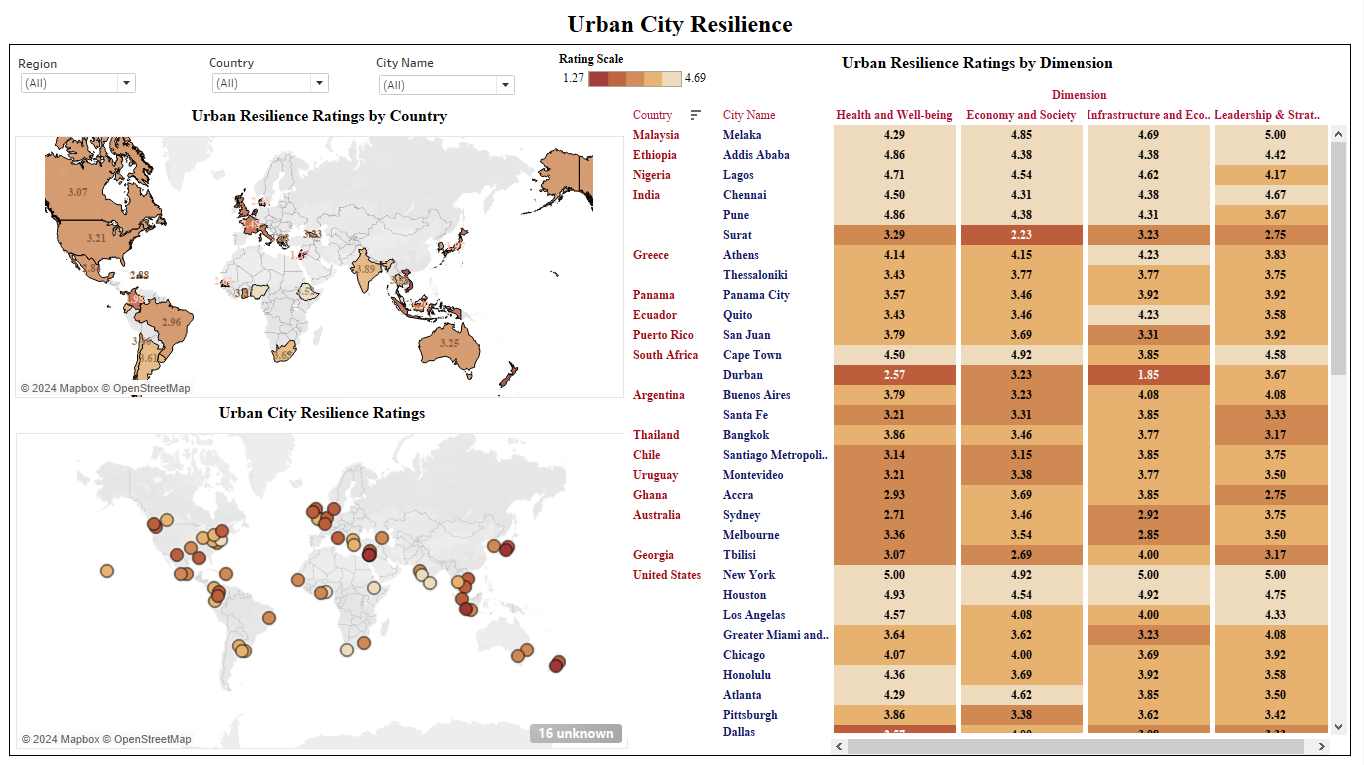

The page's visual inventory and layout, read from the dashboard file:
{"tool":"tableau","page":{"name":"Dashboard 1","canvas":[1366,768],"ordinal":0},"visuals":[{"type":"title","box":[8,8,1350,32]},{"type":"dashboard-object","param":"[com.tableau.addfilters].[0.0.0].[https://extensions.tableauusercontent.com/sand","box":[8,40,1350,720]},{"type":"worksheet","title":"Country Wise Score","mark":"Square","rows":["Country","City Name"],"cols":["Dimension"],"box":[628,50,722,705]},{"type":"legend","title":"Map - Country wise","param":"[federated.10qw0gd0dw16rt1f0r8140kxbrha].[avg:Rating:qk]","box":[562,52,152,50]},{"type":"filter","title":"Map - Country wise","param":"[federated.10qw0gd0dw16rt1f0r8140kxbrha].[none:Country:nk]","box":[212,54,123,41]},{"type":"filter","title":"Map - Country wise","param":"[federated.10qw0gd0dw16rt1f0r8140kxbrha].[none:City Name:nk]","box":[379,54,142,46]},{"type":"filter","title":"Map - Country wise","param":"[federated.10qw0gd0dw16rt1f0r8140kxbrha].[none:Region:nk]","box":[21,55,121,38]},{"type":"worksheet","title":"Map - Country wise","mark":"Multipolygon","box":[18,103,609,295]},{"type":"worksheet","title":"Map - City wise","mark":"Automatic","box":[19,400,612,349]}]}

Visuals, with their boxes in screenshot pixels (x1, y1, x2, y2), scaled from the page's 1366x768 canvas onto the 1364x765 screenshot:
title: x1=8, y1=8, x2=1356, y2=40
dashboard-object: x1=8, y1=40, x2=1356, y2=757
"Country Wise Score" worksheet (Square marks): x1=627, y1=50, x2=1348, y2=752
"Map - Country wise" legend: x1=561, y1=52, x2=713, y2=102
"Map - Country wise" filter: x1=212, y1=54, x2=335, y2=95
"Map - Country wise" filter: x1=378, y1=54, x2=520, y2=100
"Map - Country wise" filter: x1=21, y1=55, x2=142, y2=93
"Map - Country wise" worksheet (Multipolygon marks): x1=18, y1=103, x2=626, y2=396
"Map - City wise" worksheet: x1=19, y1=398, x2=630, y2=746
